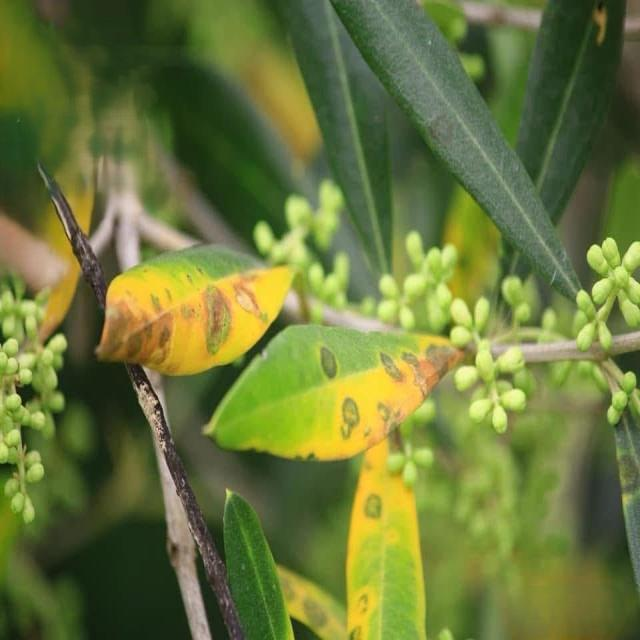OlivePeacockSpot: (204, 326, 464, 461), (96, 245, 293, 375), (346, 446, 425, 639)
